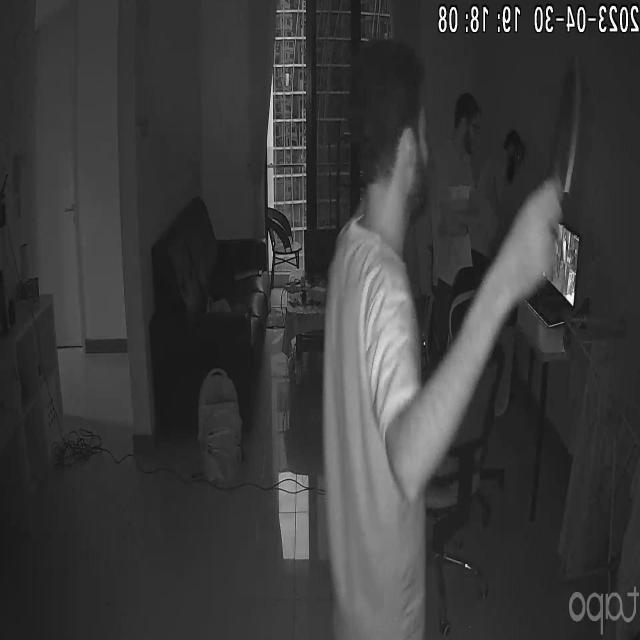Knife: (544, 77, 594, 210)
